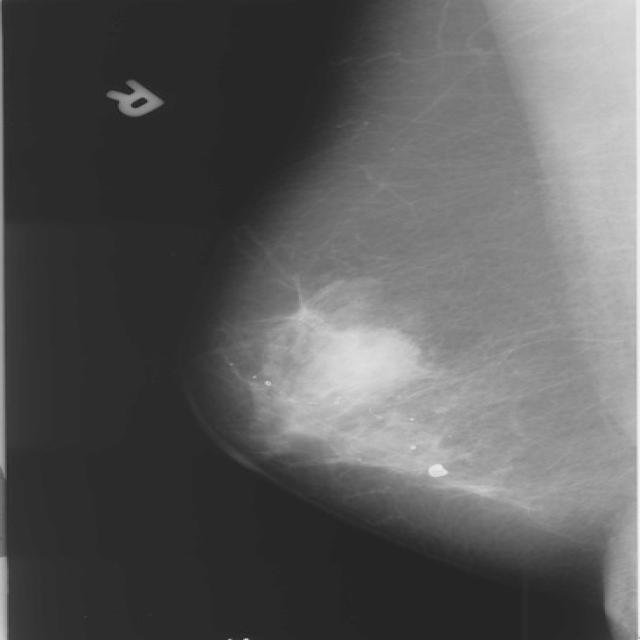tumour: (320, 327, 420, 395)
